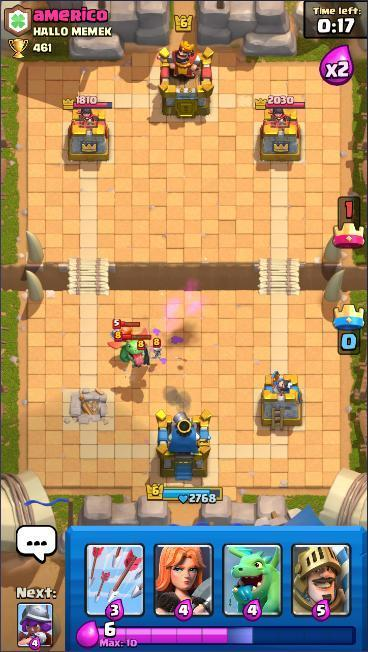enemy_baby_dragon: (107, 330, 154, 369)
enemy_skeleton: (151, 336, 165, 361), (136, 339, 149, 362)
enemy_valkyrie: (112, 317, 142, 354)
